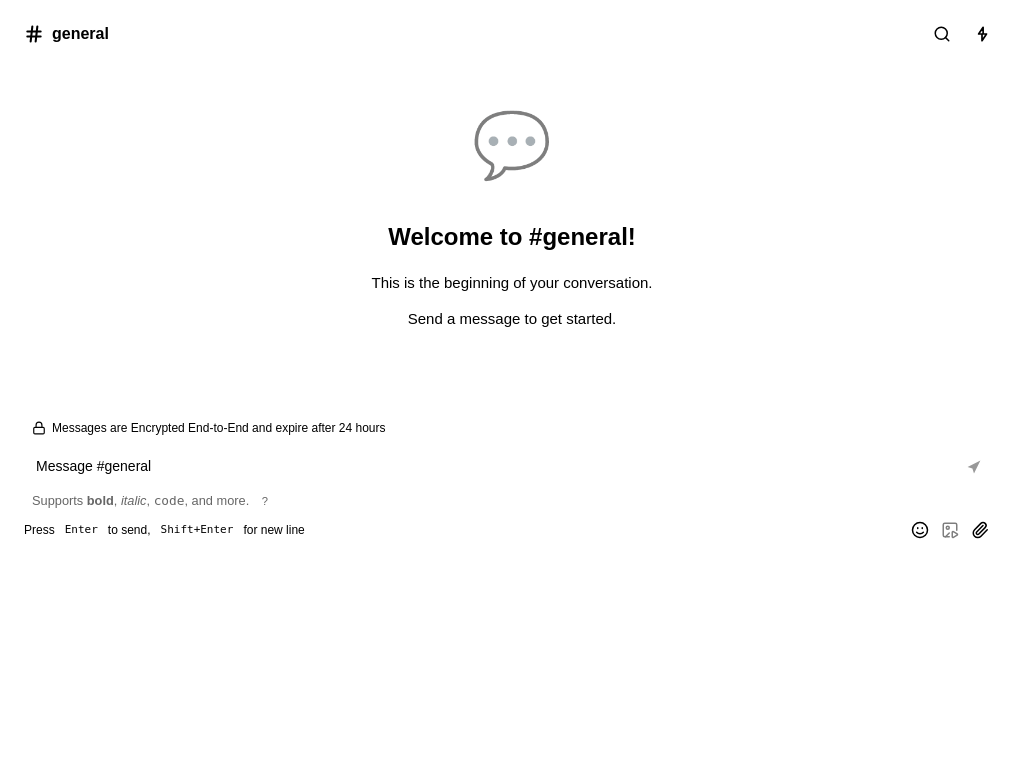
Test case: ChatView › pin retention when pins are expiring (#3459) › reaches the composer sentence and the pinned panel note
expect the text "Messages are Encrypted End-to-End and expire after 24 hours" is shown: met, box [52,421,386,435]
Click the button named "Pinned messages" at (982, 34), box [964,20,1000,48]
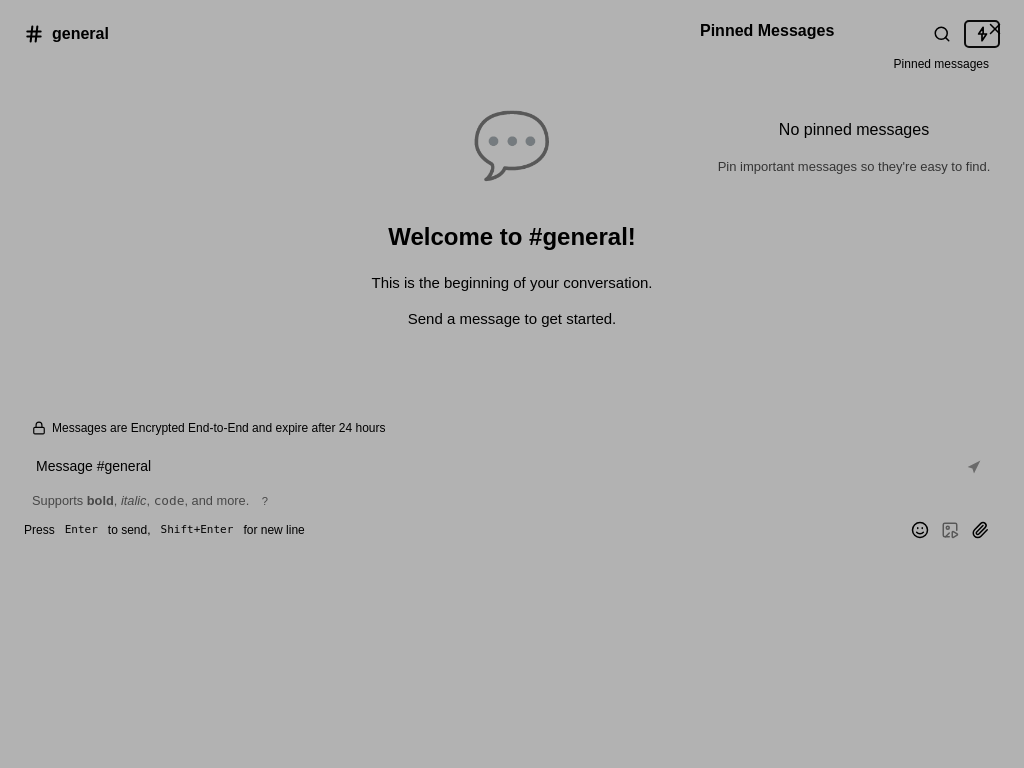
expect the heading "Pinned Messages" is shown: met, box [700,22,834,40]
